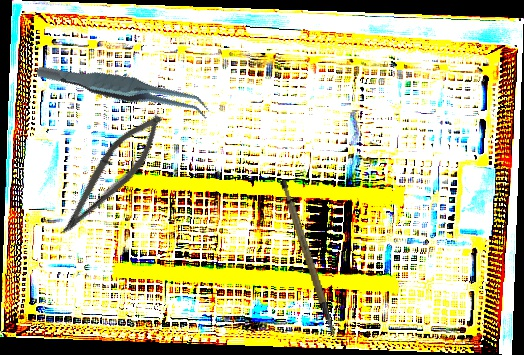Micro Scissor: (51, 102, 173, 250)
Scalpel Handle: (277, 176, 336, 340)
Tissue Forceps: (34, 30, 214, 149)
